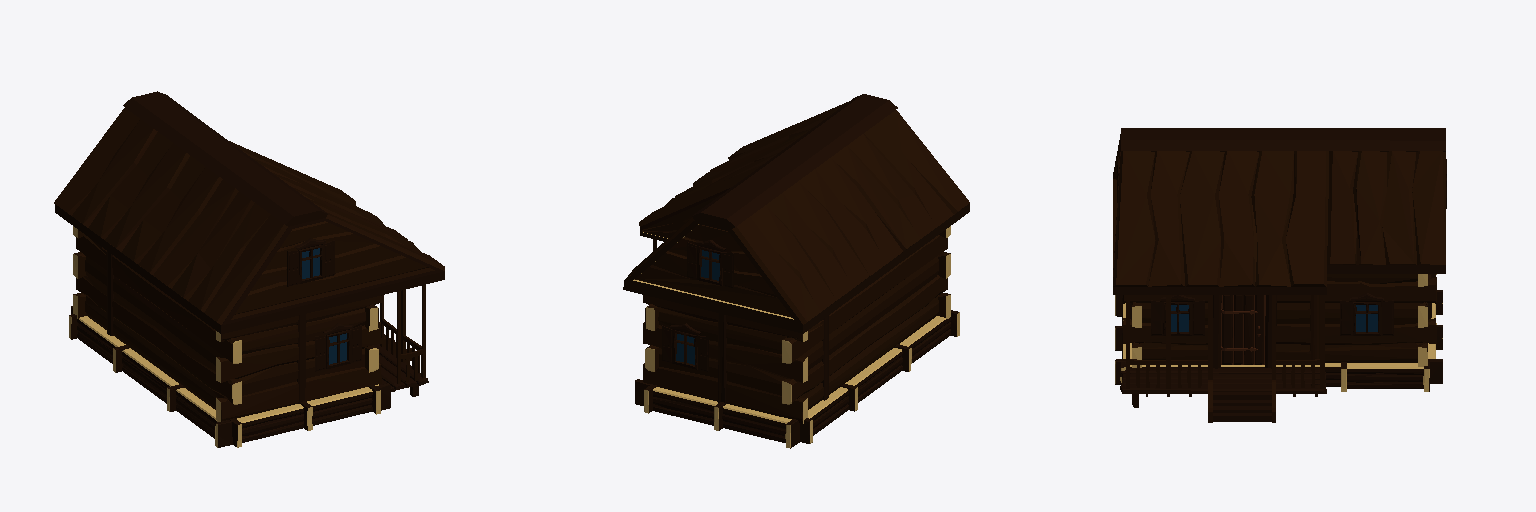
3 views of the same model, side by side, from view 1: azimuth 30°, elevation 25°; view 2: azimuth 150°, elevation 25°; view 3: azimuth 270°, elevation 25° (orthographic).
Visible parts, largest first — view 1: House_Cube.031; view 2: House_Cube.031; view 3: House_Cube.031.
Part boxes in pixels (x1,y1,x2,y2): House_Cube.031: (54, 91, 444, 447); House_Cube.031: (623, 94, 969, 448); House_Cube.031: (1113, 128, 1446, 422).
Size of the model in its own units: 3.14 by 2.67 by 3.76.
5 materials, 2 textured.